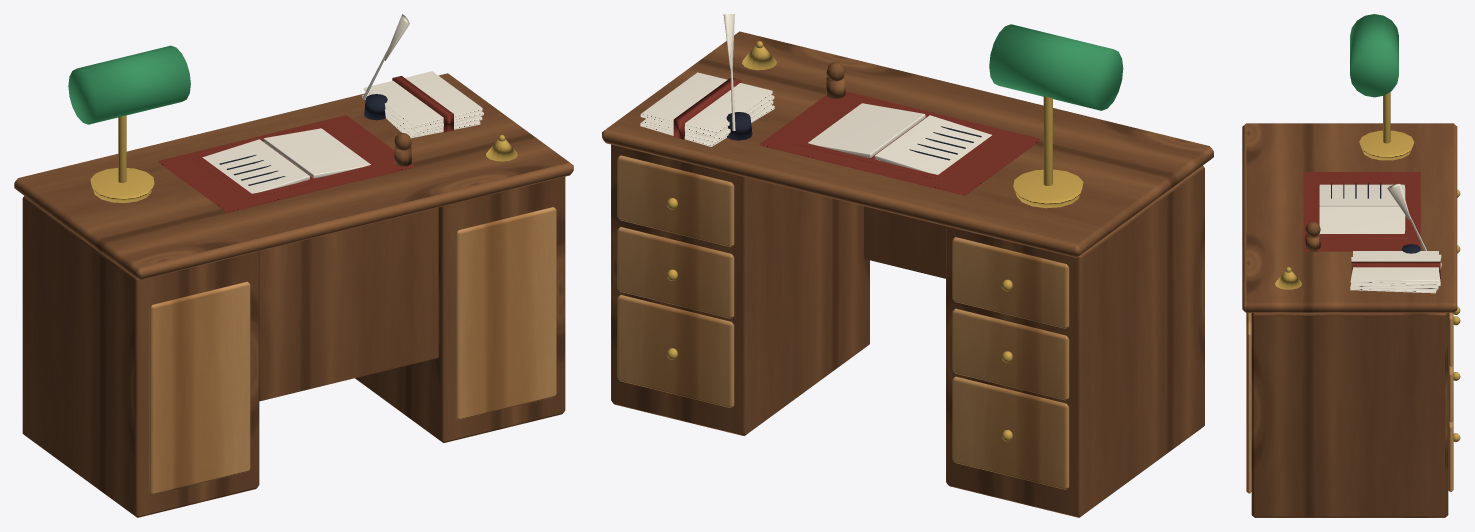
Rendered from office_desk.glb.
3 renders of one model, left to right at view 1: azimuth 30°, elevation 25°; view 2: azimuth 150°, elevation 25°; view 3: azimuth 270°, elevation 25°, orthographic. The views are drawn at different scales.
Parts seen in each view (by area): view 1: model; view 2: model; view 3: model.
Part boxes in pixels (bbox=[...]): model: bbox=[14, 14, 573, 517]; model: bbox=[602, 14, 1213, 517]; model: bbox=[1242, 14, 1460, 517].
Bounding box in the file's own units: 1.4 × 1.2 × 0.71.
Materials: 8 (2 with a texture image).
